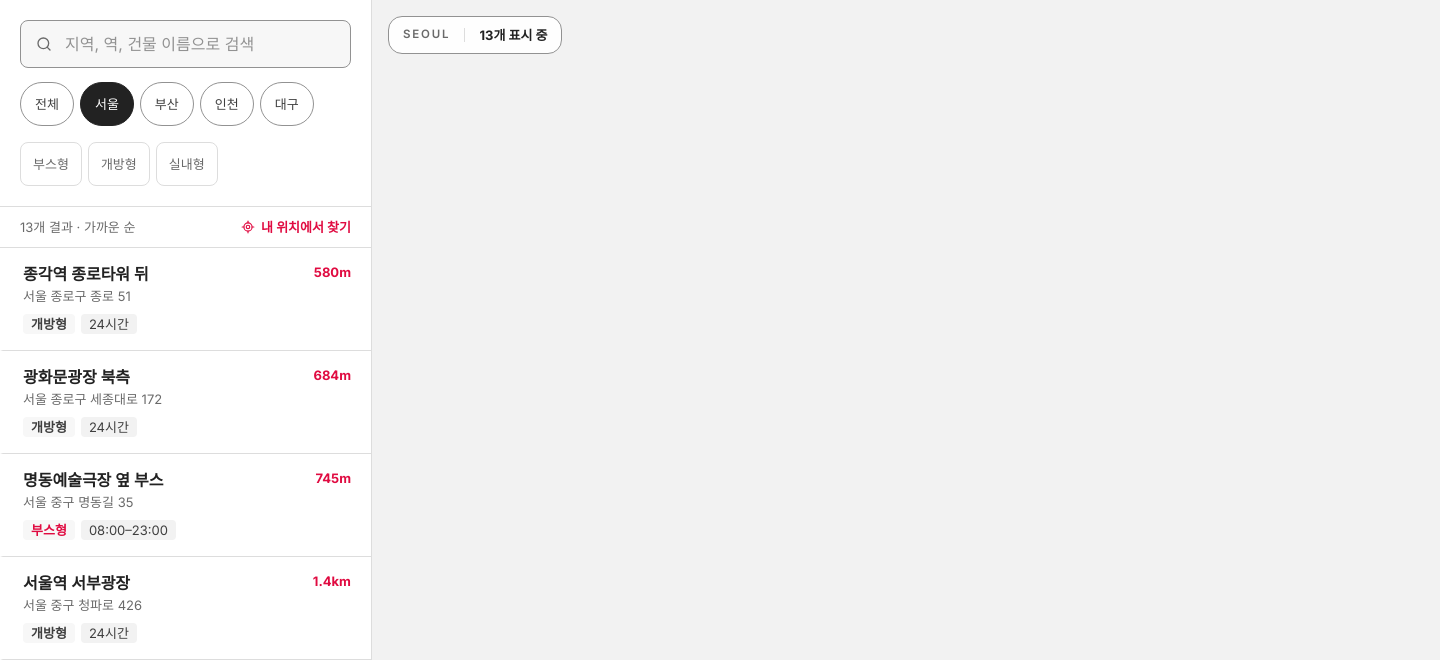
MapView 필터 › 검색어를 입력하면 목록이 좁혀진다
The width and height of the screenshot is (1440, 660).
Type "여의도" into the search field at [186, 44], box [20,20,351,68]
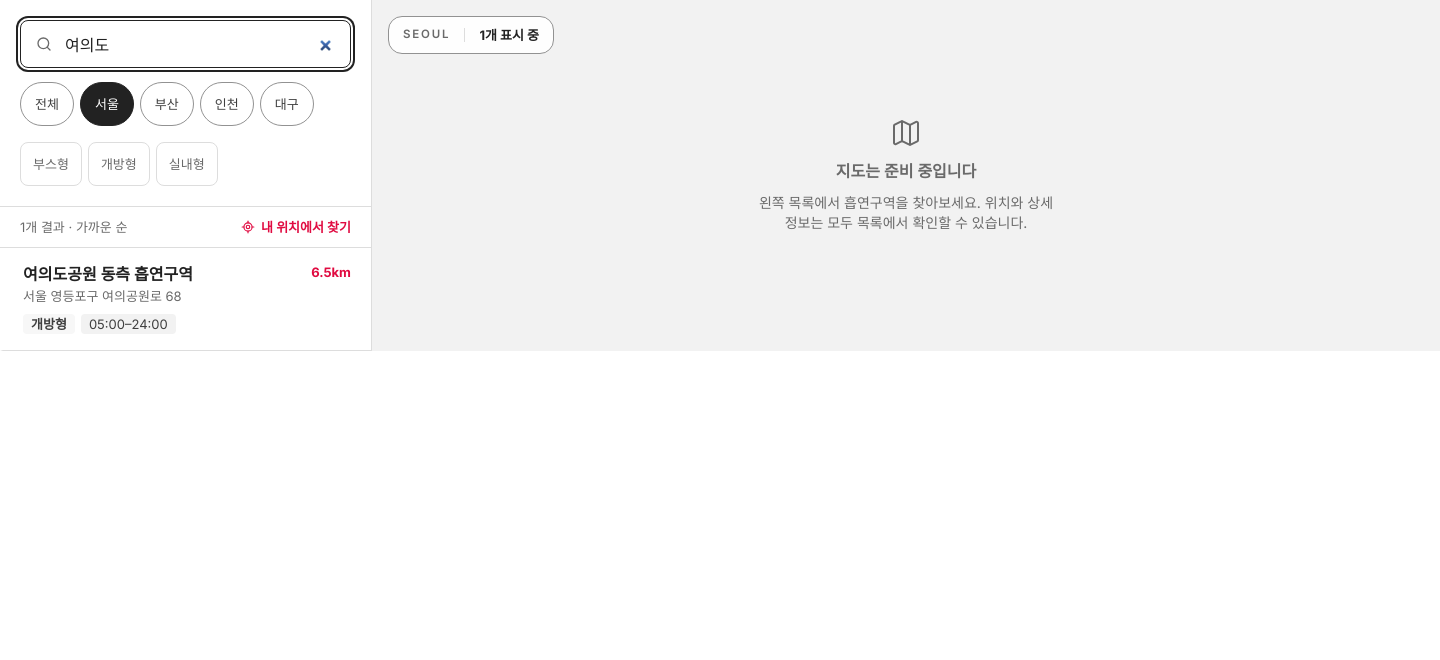
Check: the text "여의도공원 동측 흡연구역" is shown, box [23,264,193,284]
Check: the text "1개 결과 · 가까운 순" is shown, box [20,219,127,235]
